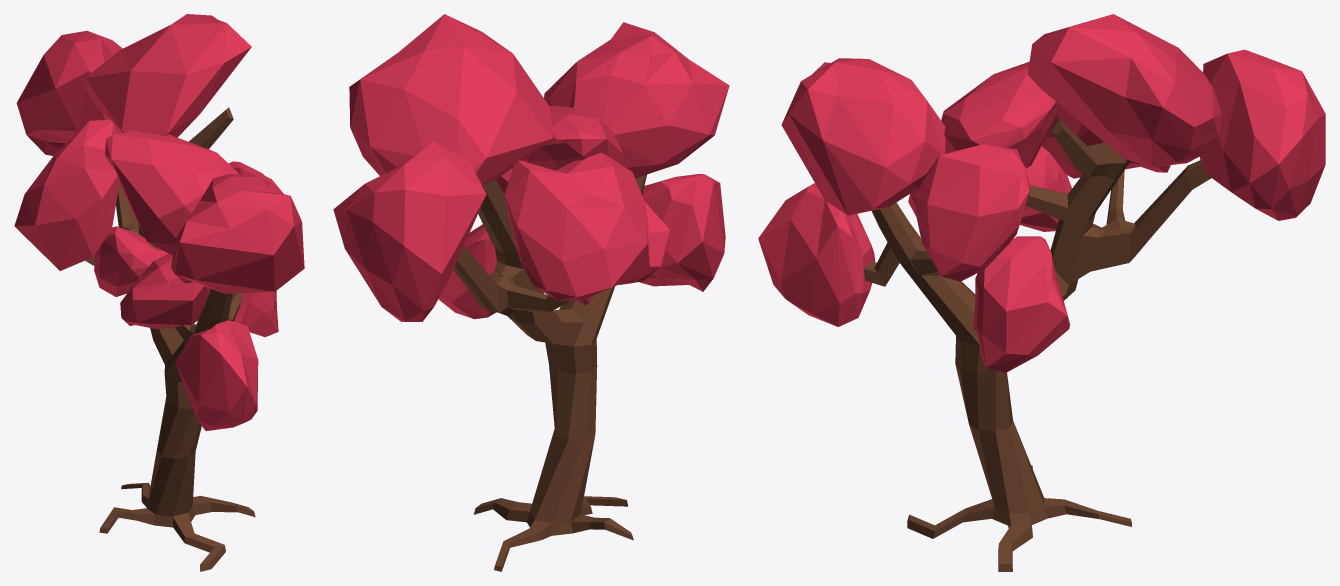
Rendered from Natures2t1-purple.fbx.
3 views of the same model, side by side, from view 1: azimuth 30°, elevation 25°; view 2: azimuth 150°, elevation 25°; view 3: azimuth 270°, elevation 25° (orthographic). The views are drawn at different scales.
Parts seen in each view (by area): view 1: t1-purple; view 2: t1-purple; view 3: t1-purple.
Part boxes in pixels (box(x1,y1,x2,y2)): t1-purple: box(14, 14, 304, 571); t1-purple: box(333, 14, 729, 571); t1-purple: box(758, 14, 1325, 571).
Bounding box in the file's own units: 606 × 1175 × 1101.
